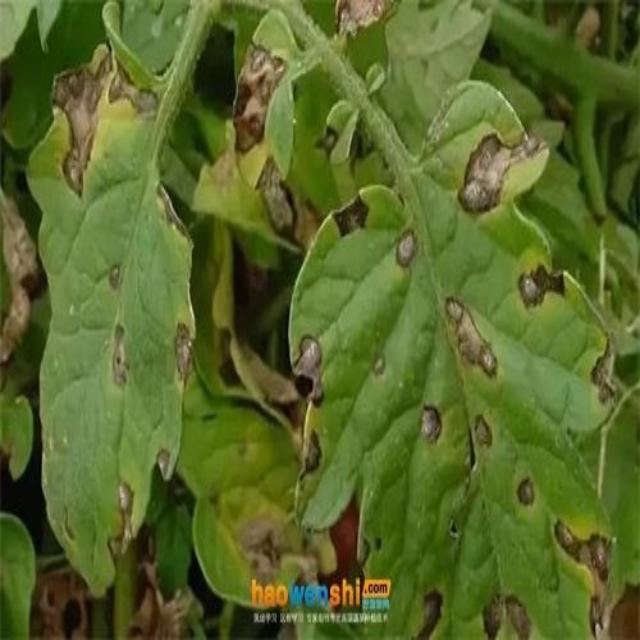Early_blight: (48, 45, 159, 203), (455, 124, 549, 218), (554, 521, 611, 640), (1, 190, 39, 368), (234, 39, 290, 157), (128, 559, 191, 640), (444, 291, 500, 379), (33, 576, 91, 640), (239, 511, 286, 585), (255, 158, 297, 236), (513, 262, 567, 314), (290, 332, 329, 403), (479, 591, 534, 640), (106, 479, 137, 562), (587, 332, 621, 405), (327, 193, 372, 240), (156, 185, 193, 242), (296, 426, 327, 485), (172, 315, 197, 388), (333, 1, 395, 30), (391, 223, 423, 268), (109, 324, 131, 388), (419, 402, 442, 446), (470, 415, 496, 449), (514, 475, 537, 508), (104, 261, 124, 296)
